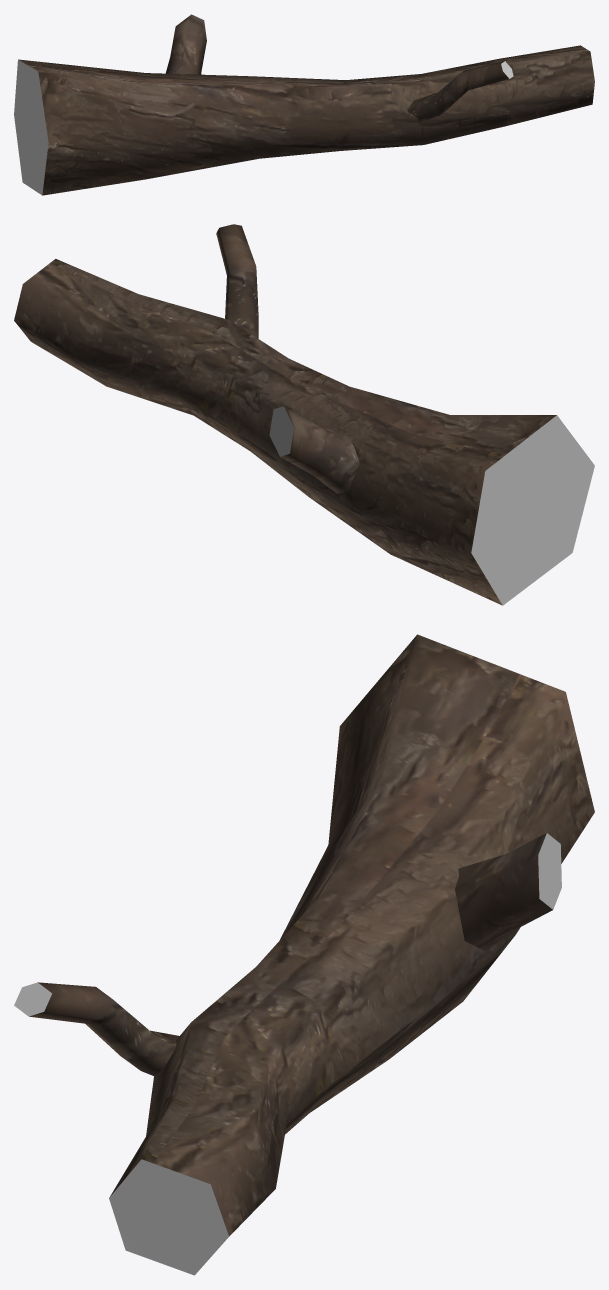
File: Tree_dead_5.FBX
3 renders of one model, top to bottom at view 1: azimuth 30°, elevation 25°; view 2: azimuth 150°, elevation 25°; view 3: azimuth 270°, elevation 25°, orthographic. The views are drawn at different scales.
Parts seen in each view (by area): view 1: Cylinder002, Object001; view 2: Cylinder002, Object001; view 3: Cylinder002, Object001.
Part boxes in pixels (box(x1,y1,x2,y2)): Cylinder002: box(18, 14, 594, 195); Object001: box(14, 59, 513, 194); Cylinder002: box(14, 224, 556, 605); Object001: box(269, 406, 594, 605); Cylinder002: box(29, 634, 594, 1236); Object001: box(14, 833, 561, 1275).
Size of the model in its own units: 82.01 by 21.34 by 43.61.
